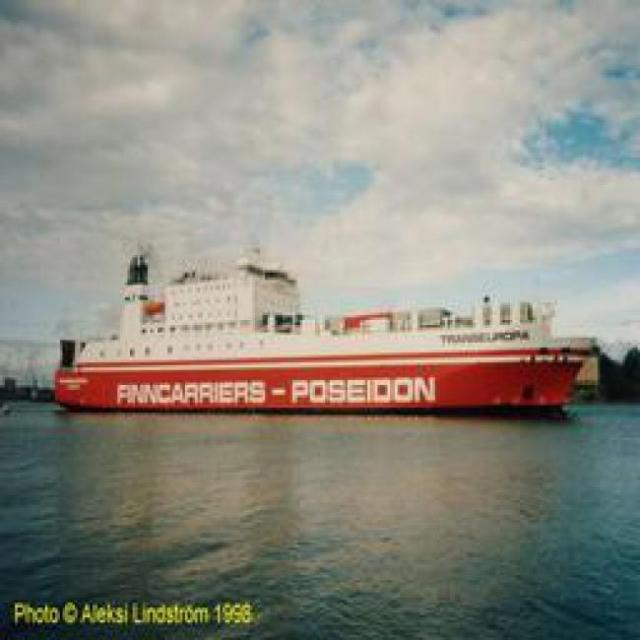boat: (33, 251, 585, 428)
